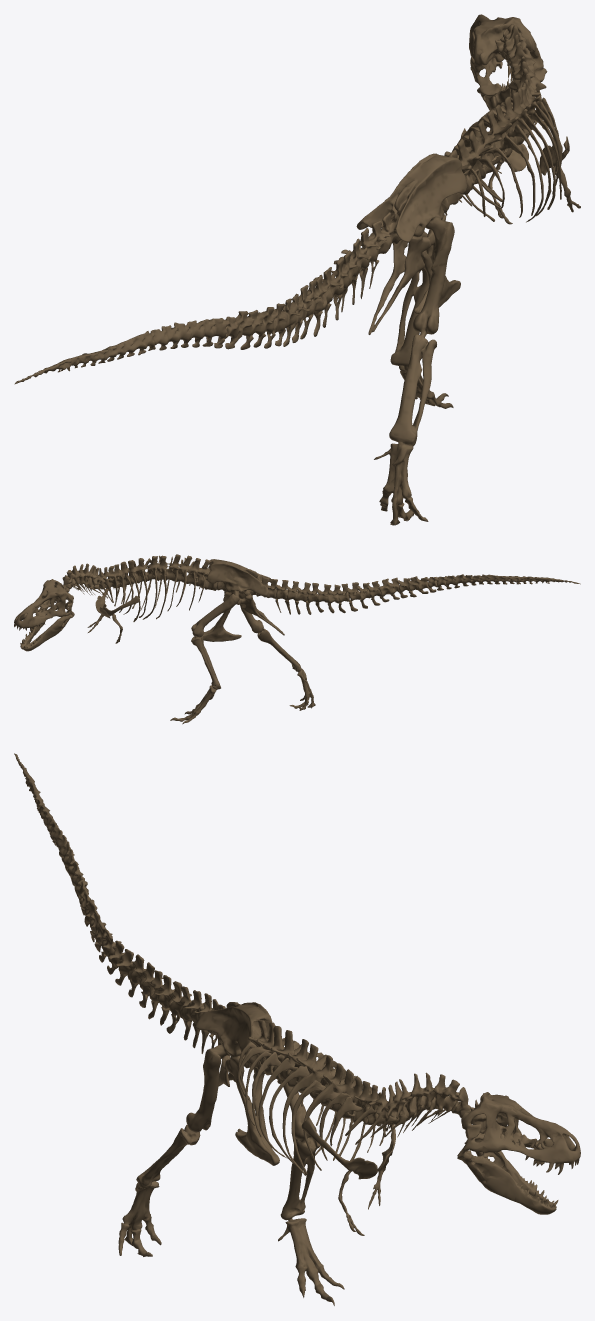
File: Skeleton_Trex_Real.glb
3 views of the same model, one above another, from view 1: azimuth 30°, elevation 25°; view 2: azimuth 150°, elevation 25°; view 3: azimuth 270°, elevation 25° (orthographic). The views are drawn at different scales.
Visible parts, largest first — view 1: Skeleton_Trex_Real; view 2: Skeleton_Trex_Real; view 3: Skeleton_Trex_Real.
Part boxes in pixels (<box>): Skeleton_Trex_Real: <box>14,14,580,525</box>; Skeleton_Trex_Real: <box>14,554,580,724</box>; Skeleton_Trex_Real: <box>14,753,580,1305</box>.
Size of the model in its own units: 1.4 by 0.546 by 0.9193.
Materials: 1 (1 with a texture image).
